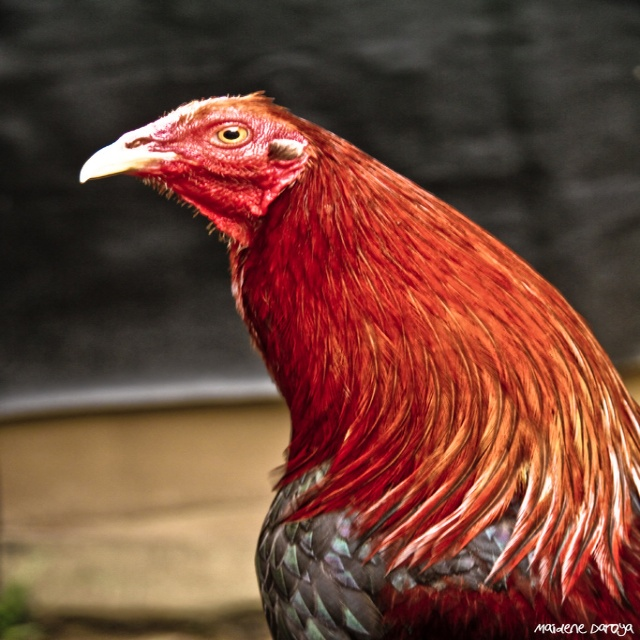Chicken: (79, 90, 640, 640)
